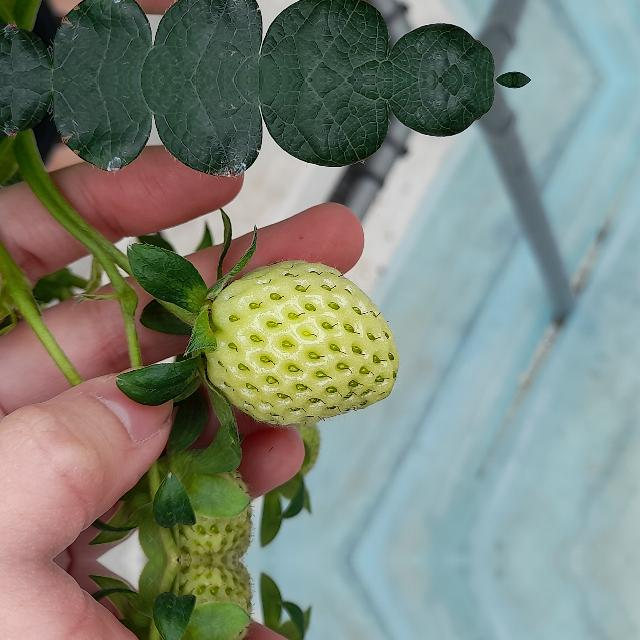Health_25: (205, 260, 399, 424), (128, 468, 258, 560), (127, 560, 258, 640)
